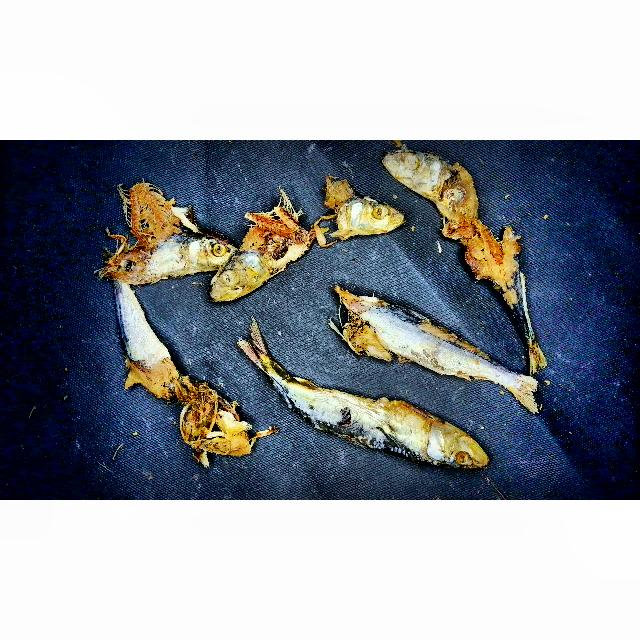Rejected_Body: (329, 285, 498, 393), (289, 369, 417, 463), (447, 218, 540, 332), (105, 282, 186, 408), (499, 372, 541, 411)
Rejected_Head: (106, 176, 238, 279), (204, 197, 313, 306), (374, 143, 479, 222), (301, 170, 404, 244), (161, 390, 270, 459), (412, 416, 508, 468)
Rejected_Tail: (234, 310, 293, 385), (517, 324, 550, 372)
